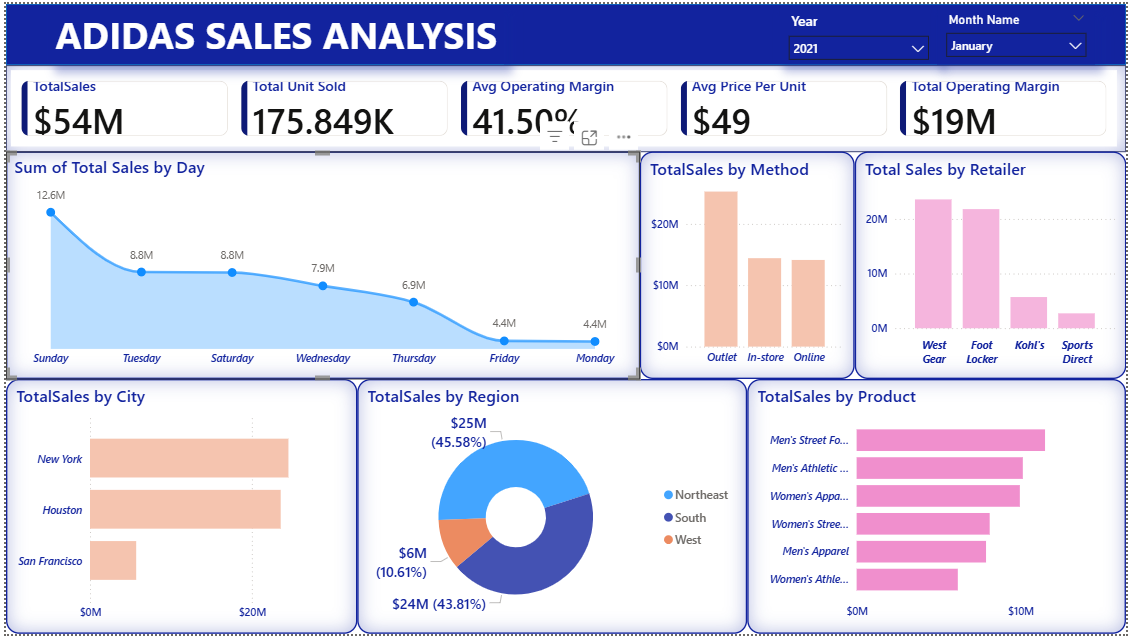

This screenshot's page, from the dashboard's own definition file:
{"tool":"powerbi","page":{"name":"Page 1","canvas":[1280,720],"ordinal":0},"visuals":[{"type":"cardVisual","fields":{"Data":["Measure.TotalSales","Measure.Total Unit Sold","Measure.Avg  Operating Margin","Measure.Avg Price Per Unit","Measure.Total Operating Margin"]},"box":[0,69.7,1280,99.5],"z":0},{"type":"lineChart","fields":{"Y":["Sum(Fact_sales_table.Total Sales)"],"Category":["Dim_Date.Day Name"]},"box":[0,168.6,725,260],"z":1000},{"type":"barChart","fields":{"Category":["Dim_Retailer.City"],"Y":["Measure.TotalSales"]},"box":[0,428.6,401.4,291.4],"z":2000},{"type":"clusteredBarChart","fields":{"Y":["Measure.TotalSales"],"Category":["Dim_Product.Product"]},"box":[847.1,429.2,432.9,291.1],"z":3000},{"type":"columnChart","fields":{"Y":["Measure.TotalSales"],"Category":["Fact_sales_table.Sales Method"]},"box":[724.5,168.2,245.5,260],"z":4000},{"type":"columnChart","fields":{"Category":["Dim_Retailer.Retailer"],"Y":["Sum(Fact_sales_table.Total Sales)"]},"box":[970,168.6,310,260],"z":5000},{"type":"donutChart","fields":{"Y":["Measure.TotalSales"],"Category":["Dim_Retailer.Region"]},"box":[401.8,429.2,445.3,291.1],"z":6000},{"type":"shape","box":[0,0,1280,69.7],"z":7000},{"type":"textbox","box":[51,0,517.5,69.7],"z":8000},{"type":"slicer","fields":{"Values":["Dim_Date.Year"]},"box":[884.5,2.5,180.4,64.7],"z":9000},{"type":"slicer","fields":{"Values":["Dim_Date.Month Name"]},"box":[1064.8,5,180.4,64.7],"z":10000}]}

Visuals, with their boxes in screenshot pixels (x1, y1, x2, y2), scaled from the page's 1280x720 canvas onto the 1130x638 screenshot:
cardVisual - Measure.TotalSales x Measure.Total Unit Sold: (left=0, top=62, right=1129, bottom=150)
lineChart - Sum(Fact_sales_table.Total Sales) x Dim_Date.Day Name: (left=0, top=149, right=640, bottom=380)
barChart - Dim_Retailer.City x Measure.TotalSales: (left=0, top=380, right=354, bottom=637)
clusteredBarChart - Measure.TotalSales x Dim_Product.Product: (left=748, top=380, right=1129, bottom=637)
columnChart - Measure.TotalSales x Fact_sales_table.Sales Method: (left=640, top=149, right=856, bottom=379)
columnChart - Dim_Retailer.Retailer x Sum(Fact_sales_table.Total Sales): (left=856, top=149, right=1129, bottom=380)
donutChart - Measure.TotalSales x Dim_Retailer.Region: (left=355, top=380, right=748, bottom=637)
shape: (left=0, top=0, right=1129, bottom=62)
textbox: (left=45, top=0, right=502, bottom=62)
slicer - Dim_Date.Year: (left=781, top=2, right=940, bottom=60)
slicer - Dim_Date.Month Name: (left=940, top=4, right=1099, bottom=62)
